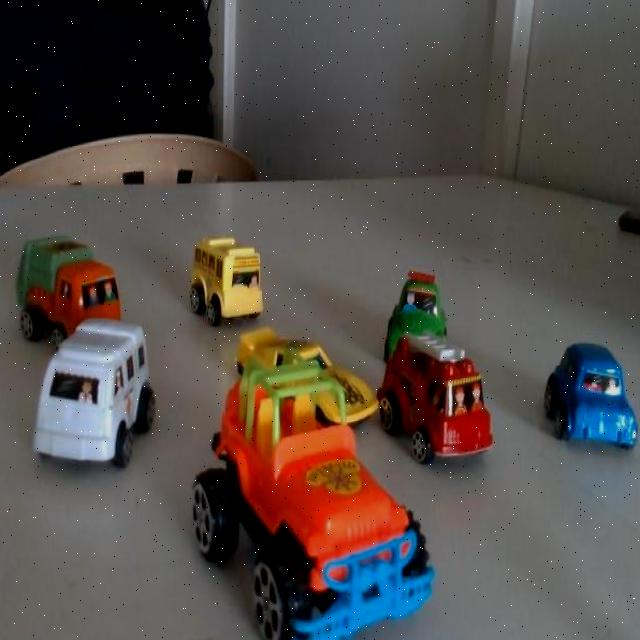car: (280, 452, 447, 640), (236, 315, 391, 464), (543, 332, 640, 471), (407, 335, 500, 476), (47, 337, 156, 452), (32, 230, 133, 351), (389, 271, 470, 381), (208, 229, 276, 325)
